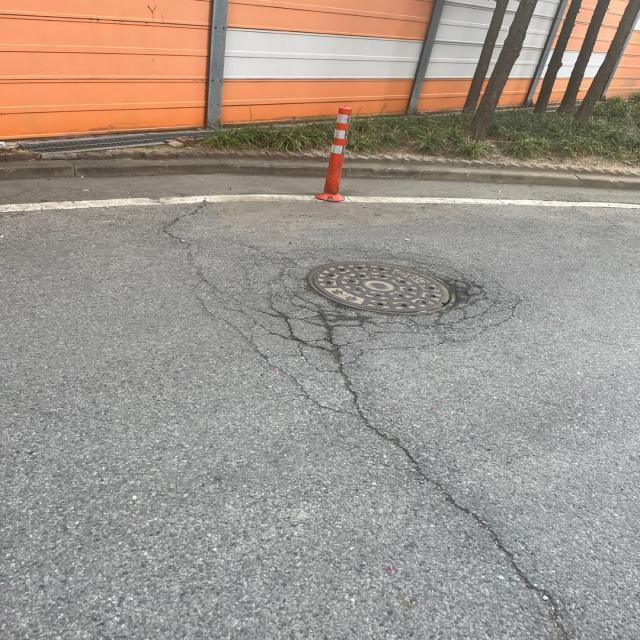Sewer Cover: (286, 255, 467, 324)
